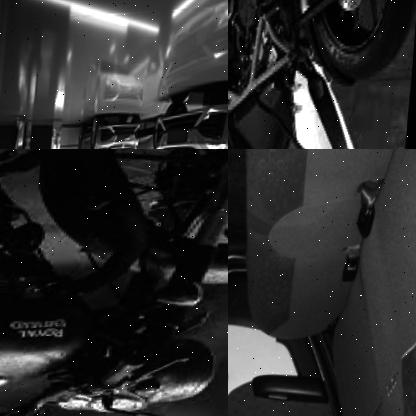bike: (0, 149, 228, 416), (228, 0, 416, 149)
car: (228, 149, 416, 416), (149, 83, 228, 149), (75, 115, 146, 149)
